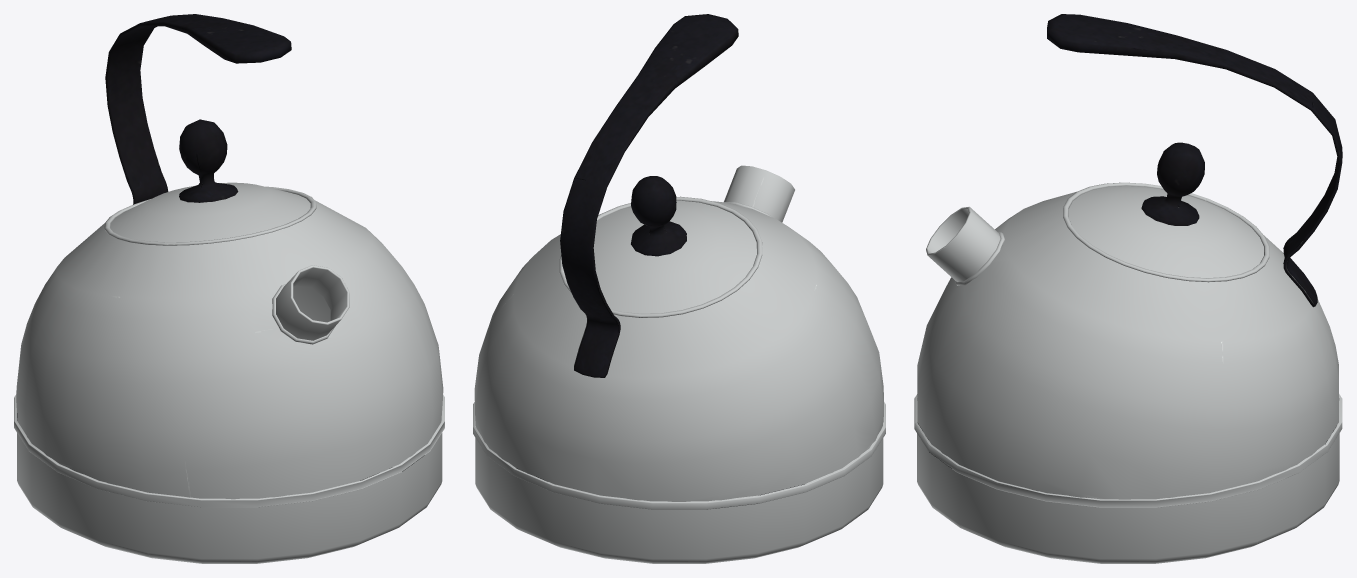
The model's file is shaoshuihu.fbx.
The picture shows the model from 3 angles, left to right: view 1: azimuth 30°, elevation 25°; view 2: azimuth 150°, elevation 25°; view 3: azimuth 270°, elevation 25°; orthographic projection. The views are drawn at different scales.
Parts seen in each view (by area): view 1: shaoshuihu, shaoshuihu_gai; view 2: shaoshuihu, shaoshuihu_gai; view 3: shaoshuihu, shaoshuihu_gai.
Boxes of the visible parts, x1,y1,x2,y2 form: shaoshuihu: (14,14,444,563); shaoshuihu_gai: (110,119,310,242); shaoshuihu: (473,14,885,563); shaoshuihu_gai: (593,176,756,313); shaoshuihu: (914,14,1342,563); shaoshuihu_gai: (1068,142,1263,277).
Size of the model in its own units: 34.86 by 40.81 by 34.87.
